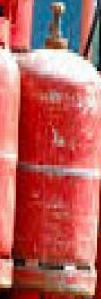cylinder: (0, 1, 101, 299)
